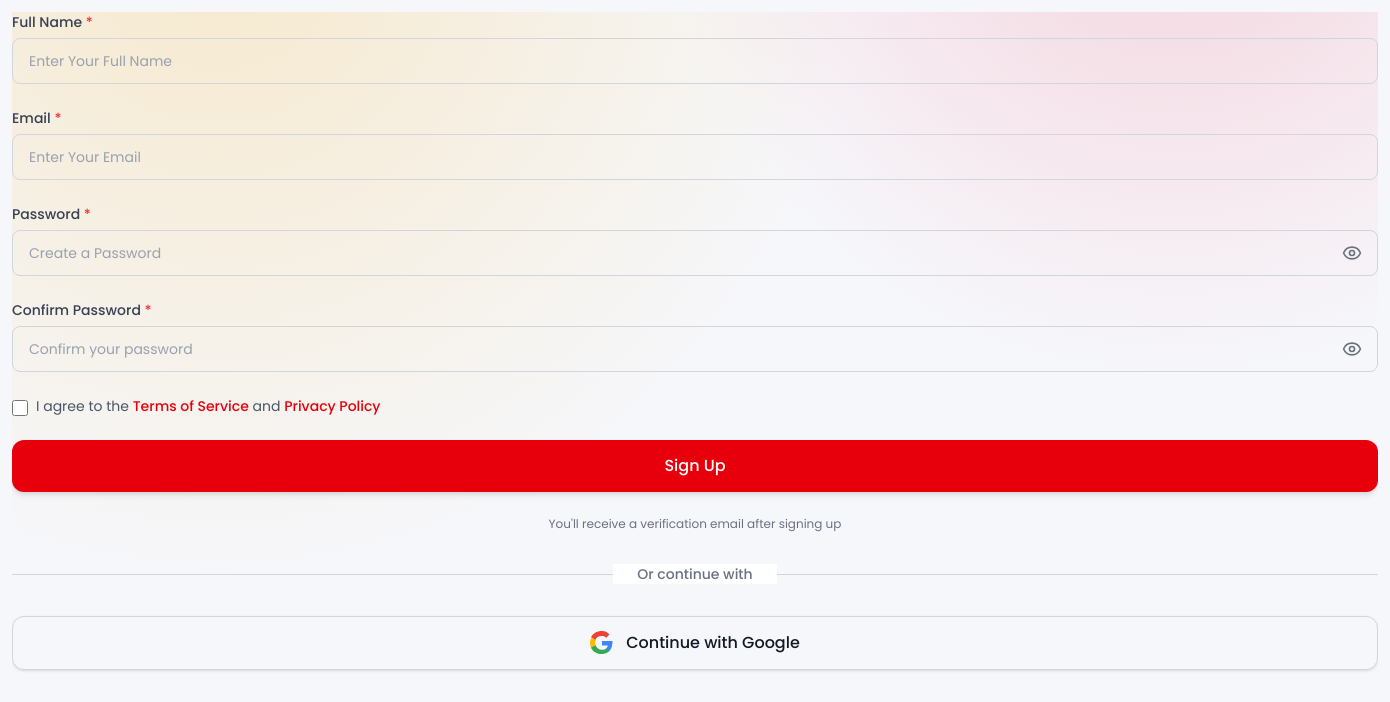
Test: SignupForm › shows error when terms not agreed
Type "Test User" into the field with placeholder "Enter Your Full Name" at [695, 61], box left=12, top=38, right=1378, bottom=84
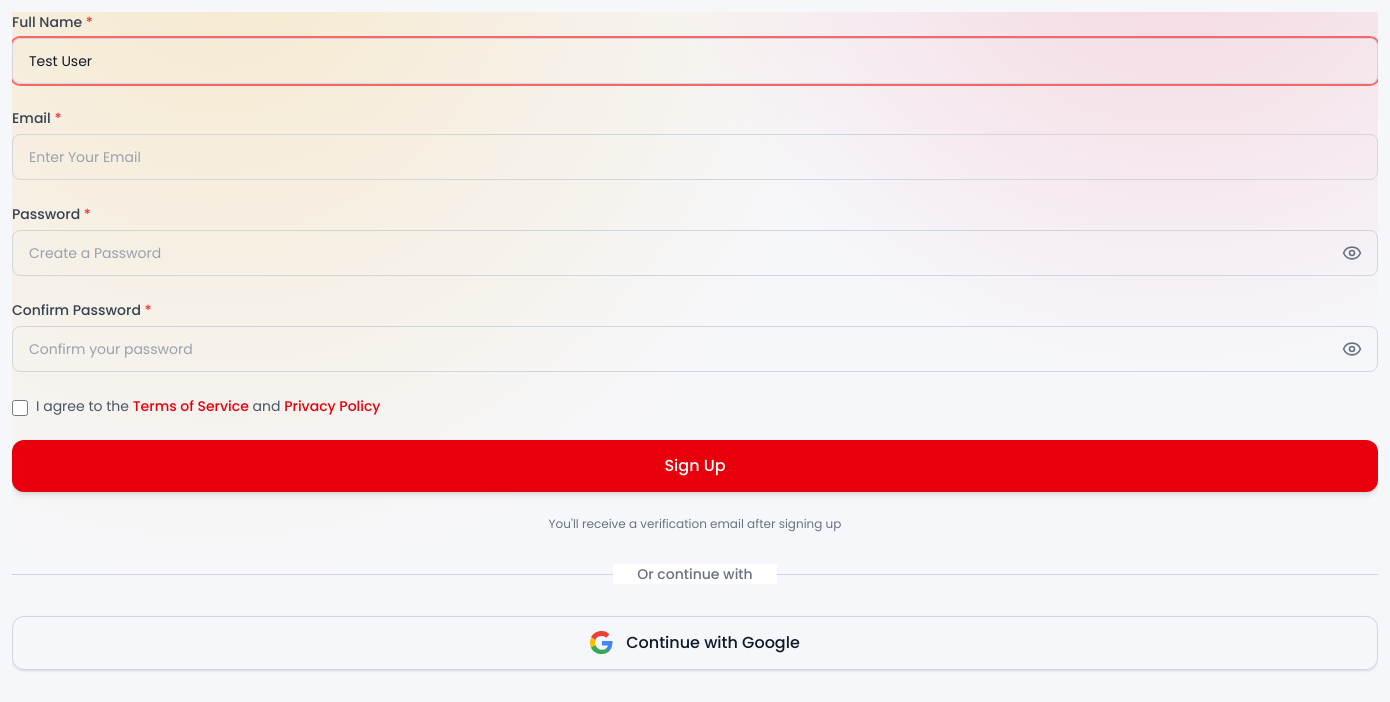
Type "test@test.com" into the field with placeholder "Enter Your Email" at [695, 157], box left=12, top=134, right=1378, bottom=180
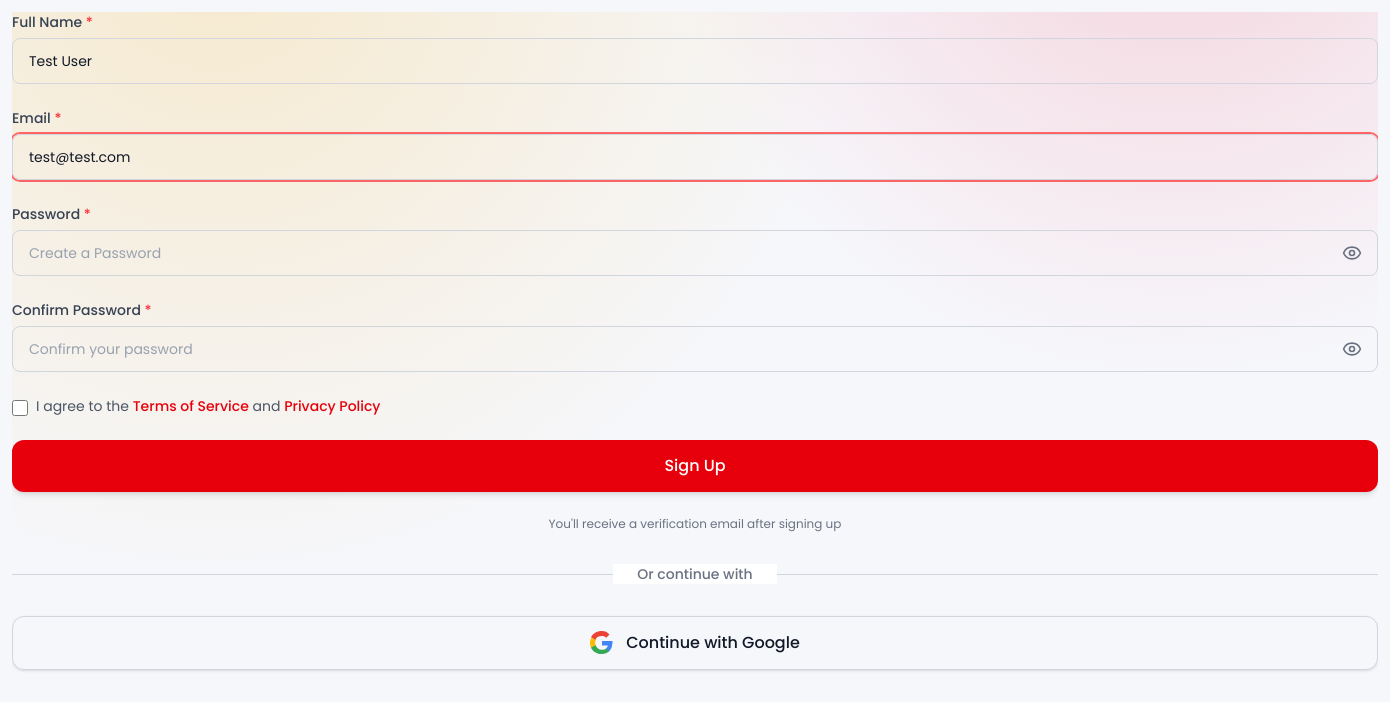
Type "StrongPass1!" into the password field with placeholder "Create a Password" at [695, 253], box left=12, top=230, right=1378, bottom=276
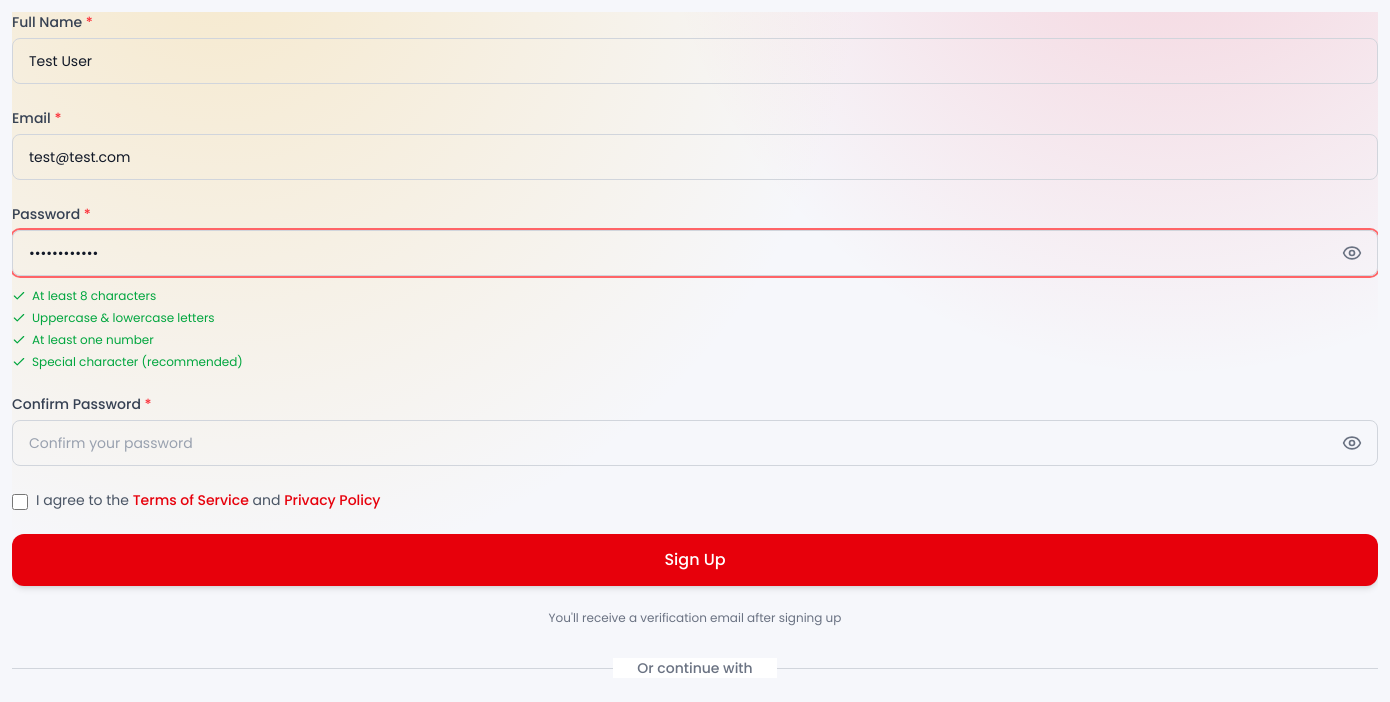
Type "StrongPass1!" into the password field with placeholder "Confirm your password" at [695, 443], box left=12, top=420, right=1378, bottom=466
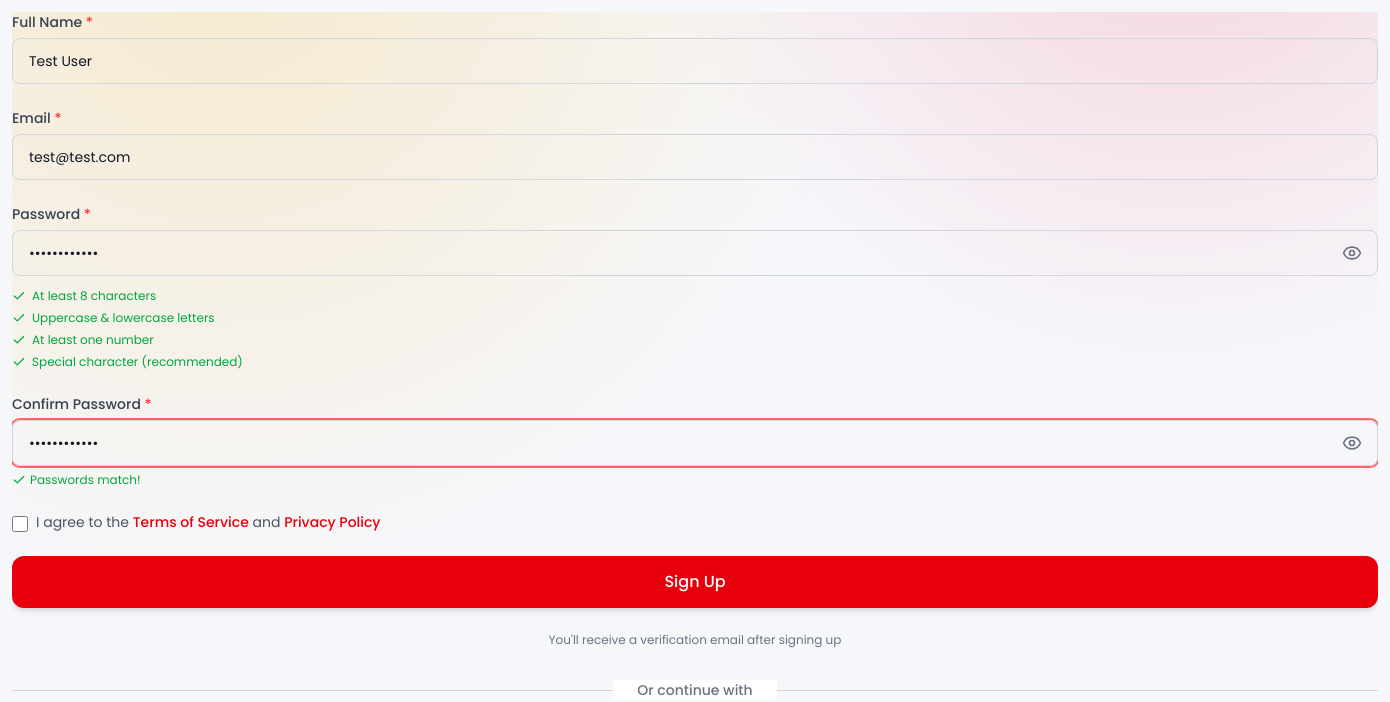
Click the button "Sign Up" at [695, 582], box left=12, top=556, right=1378, bottom=608
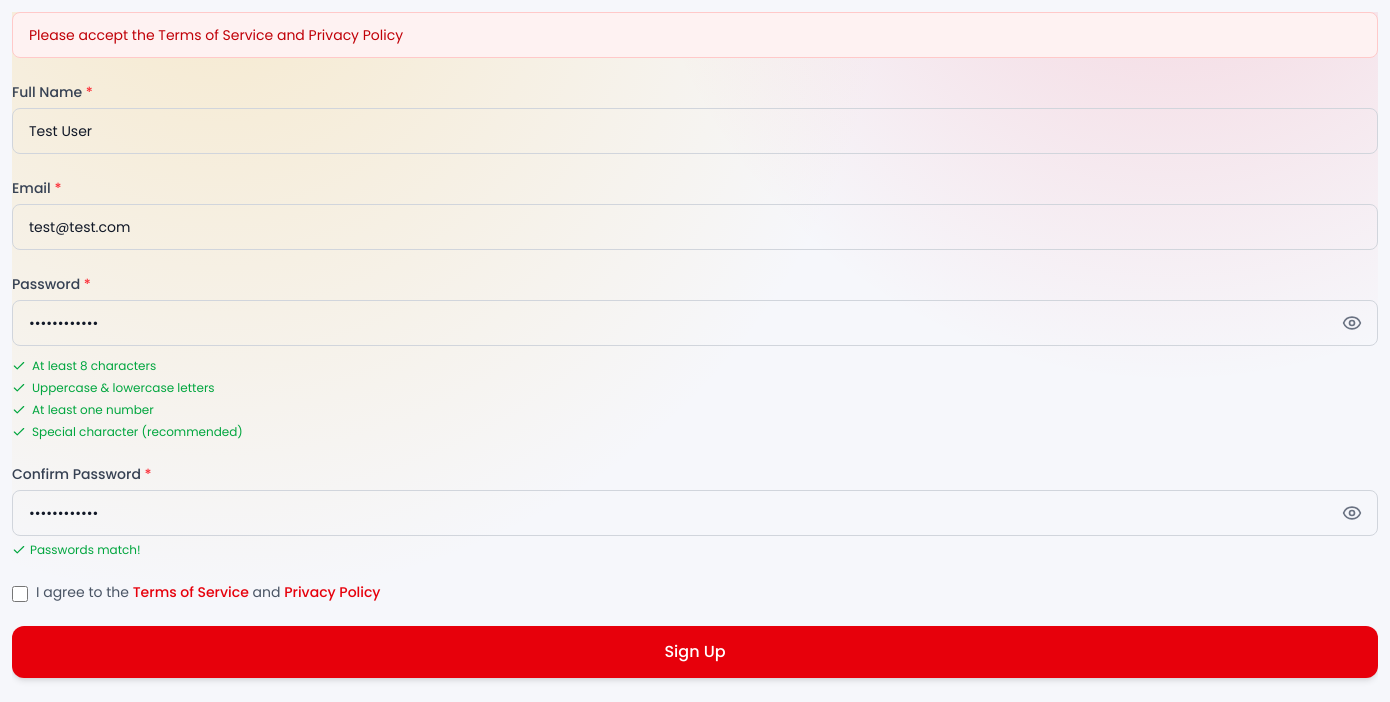
Now the text "Please accept the Terms of Service and Privacy Policy" is shown, box left=12, top=12, right=1378, bottom=58
